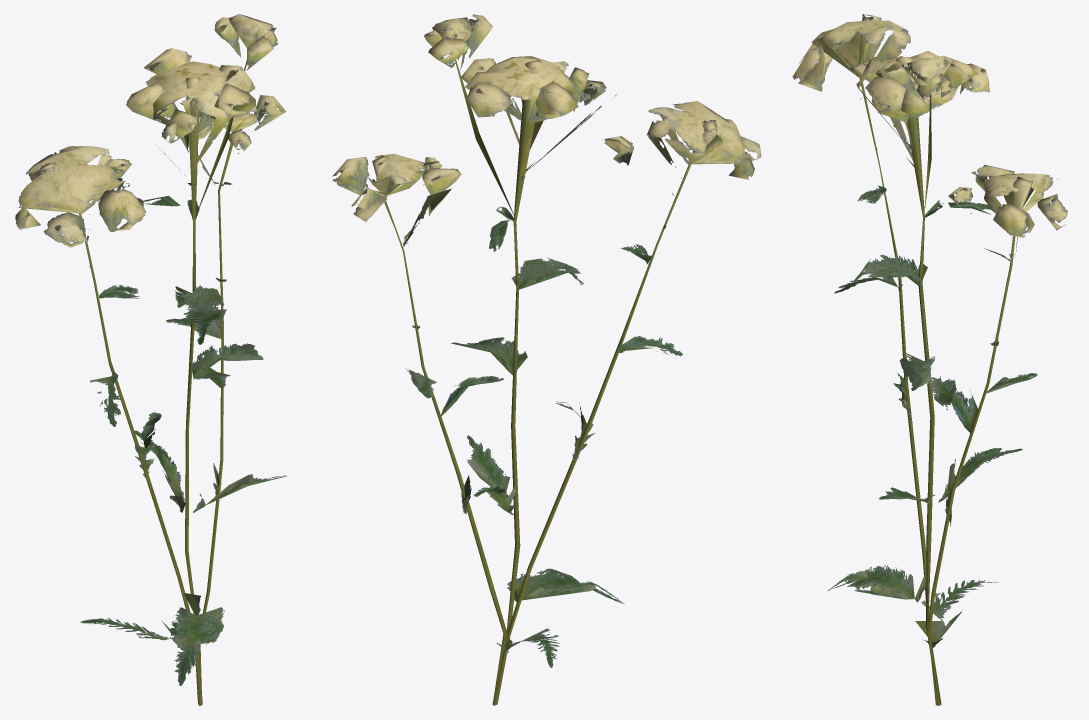
Rendered from MeadowYarrow.glb.
3 renders of one model, left to right at view 1: azimuth 30°, elevation 25°; view 2: azimuth 150°, elevation 25°; view 3: azimuth 270°, elevation 25°, orthographic.
Visible parts, largest first — view 1: geometry_0; view 2: geometry_0; view 3: geometry_0.
Part boxes in pixels (x1=…): geometry_0: x1=15, y1=14, x2=286, y2=705; geometry_0: x1=332, y1=14, x2=761, y2=705; geometry_0: x1=792, y1=14, x2=1067, y2=705.
Size of the model in its own units: 0.2452 by 0.46 by 0.1774.
1 material, 1 textured.
